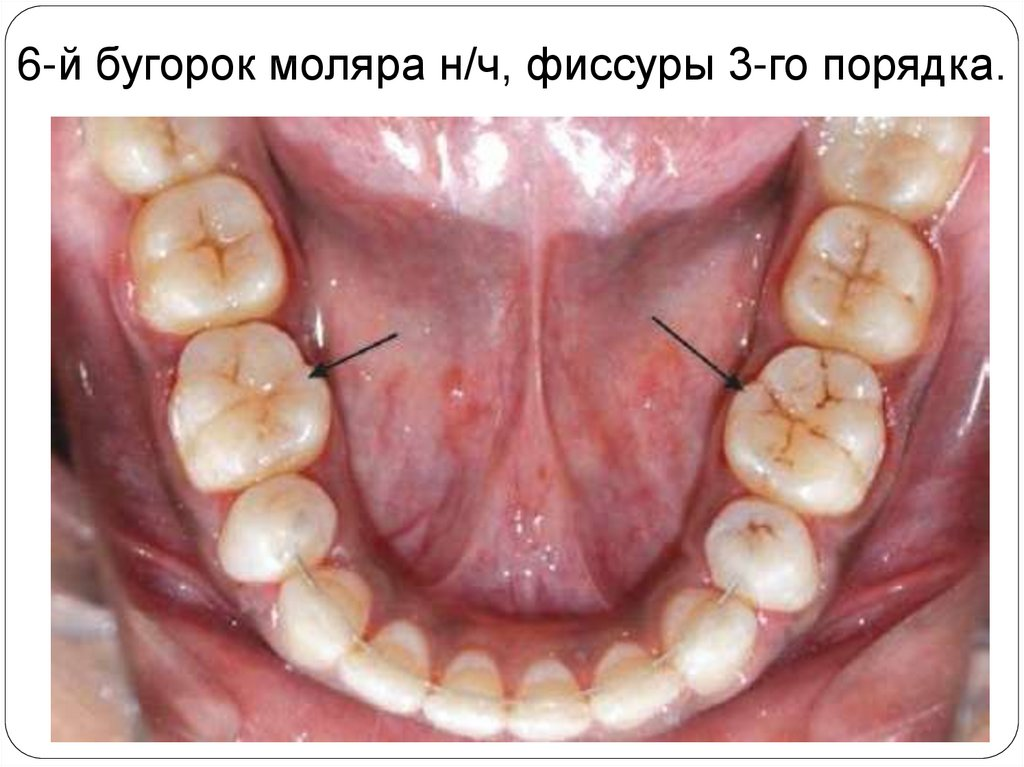LL1BC_decay: (708, 499, 815, 611)
LL1M_decay: (784, 208, 934, 360)
LL2BC_decay: (744, 348, 883, 515)
LL2M_healthy: (826, 122, 970, 206)
LLCI_decay: (510, 661, 588, 738)
LLC_decay: (664, 591, 754, 691)
LLLI_decay: (592, 646, 677, 724)
LR1BC_decay: (227, 477, 338, 574)
LR1M_decay: (132, 174, 284, 333)
LR2BC_healthy: (172, 324, 307, 479)
LR2M_decay: (100, 120, 226, 182)
LRCI_decay: (429, 654, 507, 738)
LRC_decay: (279, 569, 370, 668)
LRLI_decay: (346, 626, 431, 716)
